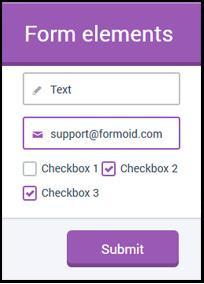button: (65, 229, 181, 268)
checkbox: (100, 160, 117, 178), (21, 185, 39, 201), (22, 161, 38, 177)
checkbox_with_label: (98, 158, 179, 179), (19, 183, 100, 203), (20, 159, 97, 178)
field: (21, 71, 183, 108), (21, 116, 182, 151)
